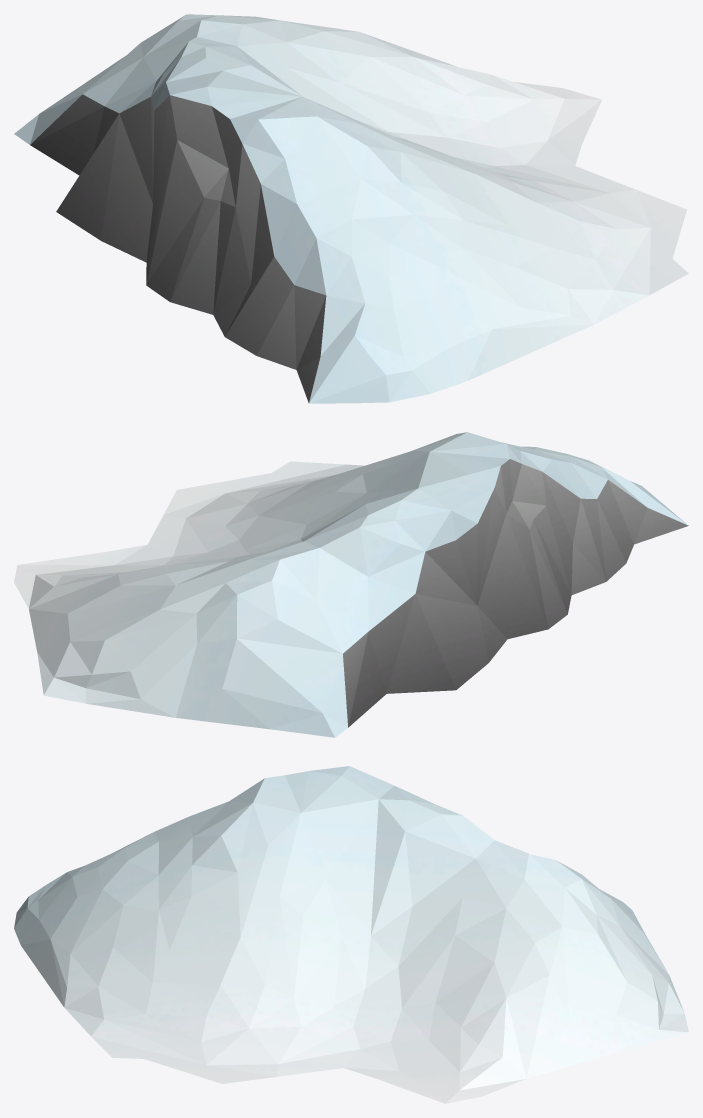
The picture shows the model from 3 angles, top to bottom: view 1: azimuth 30°, elevation 25°; view 2: azimuth 150°, elevation 25°; view 3: azimuth 270°, elevation 25°; orthographic projection. The views are drawn at different scales.
Visible parts, largest first — view 1: SnowyCliff; view 2: SnowyCliff; view 3: SnowyCliff.
Boxes of the visible parts, <box> form: SnowyCliff: <box>14,14,688,403</box>; SnowyCliff: <box>14,432,688,737</box>; SnowyCliff: <box>14,766,688,1103</box>.
Size of the model in its own units: 114 by 34.92 by 150.
Materials: 1 (1 with a texture image).
